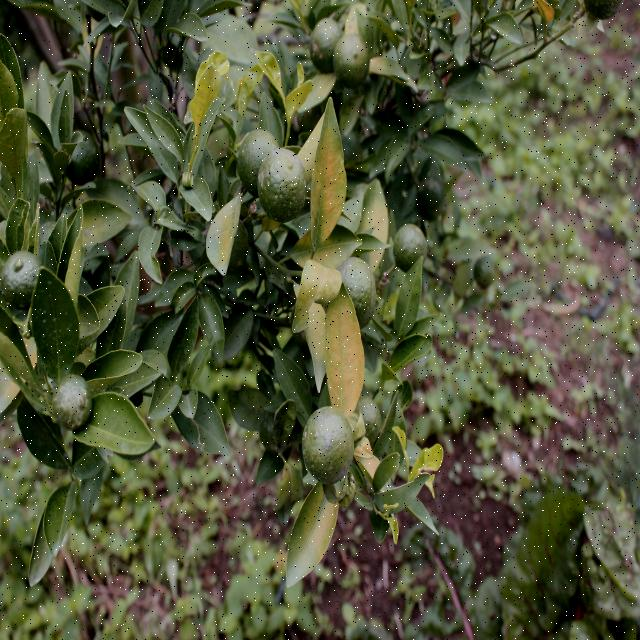greening: (323, 291, 368, 415), (312, 112, 354, 236), (286, 489, 334, 593), (289, 263, 343, 325)
